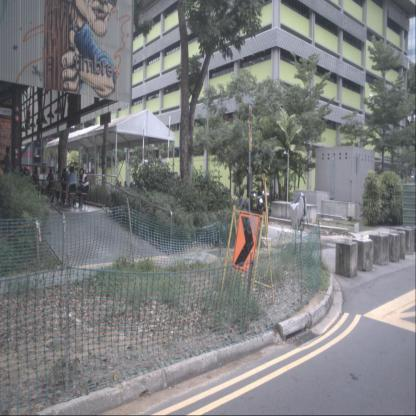human-pedestrian-adult: (66, 166, 77, 208), (3, 146, 12, 197), (78, 168, 89, 208), (3, 145, 11, 195), (61, 168, 70, 203), (46, 167, 54, 200), (32, 166, 40, 199)
vehicle-bicycle: (291, 192, 307, 232)
vehicle-motorcycle: (253, 189, 270, 229)
